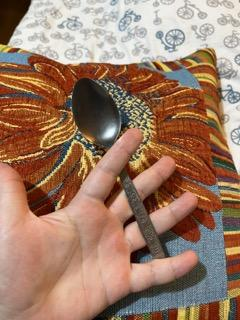spoon: (71, 76, 169, 270)
